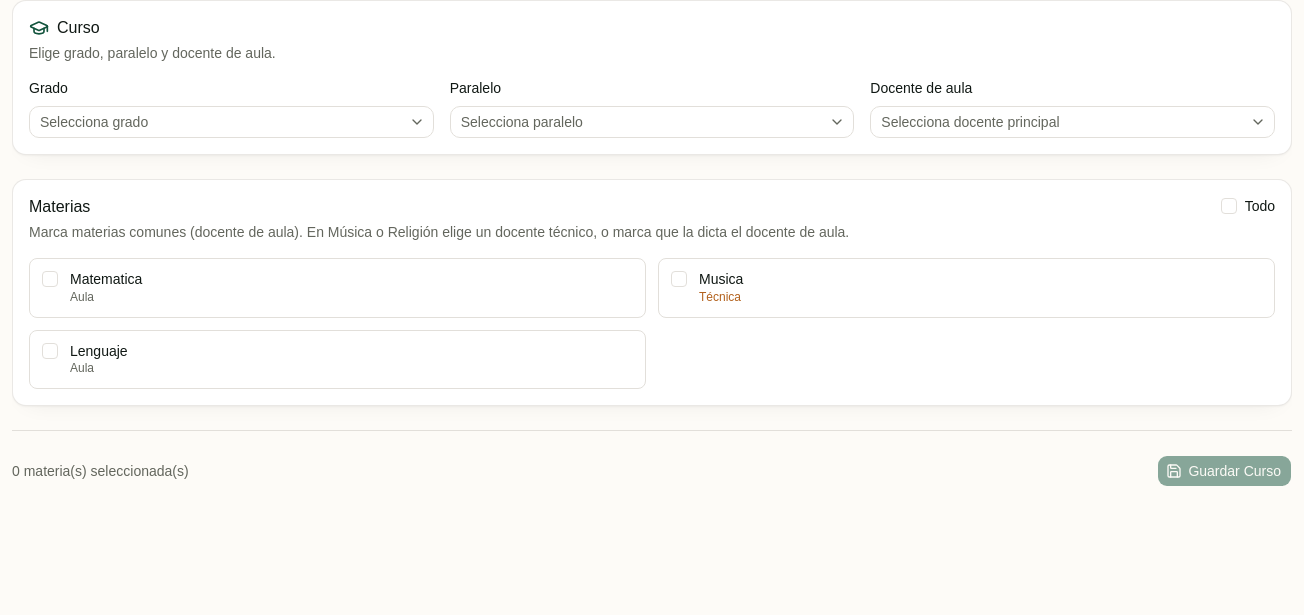
Test: AssignCourseSubjectsForm, seleccionar todas las materias › al volver a pulsarlo con todas marcadas, las desmarca
Click the checkbox named "seleccionar todas las materias": (1229, 206) [1221,198,1237,214]
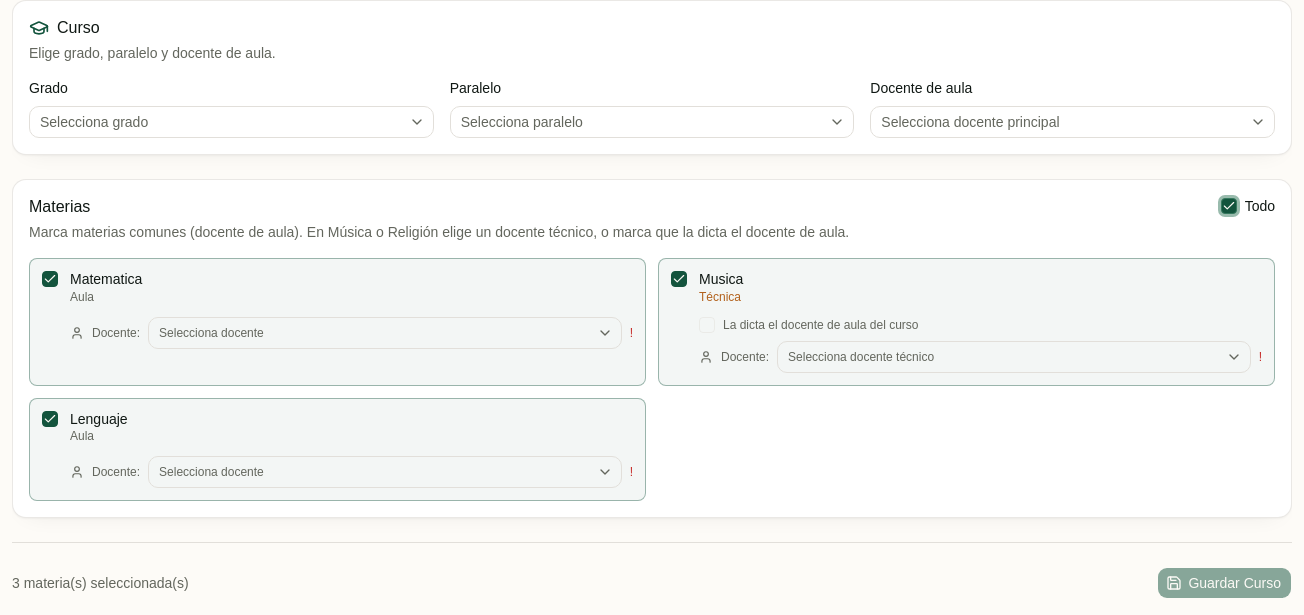
Click the checkbox named "seleccionar todas las materias": (1229, 206) [1221,198,1237,214]
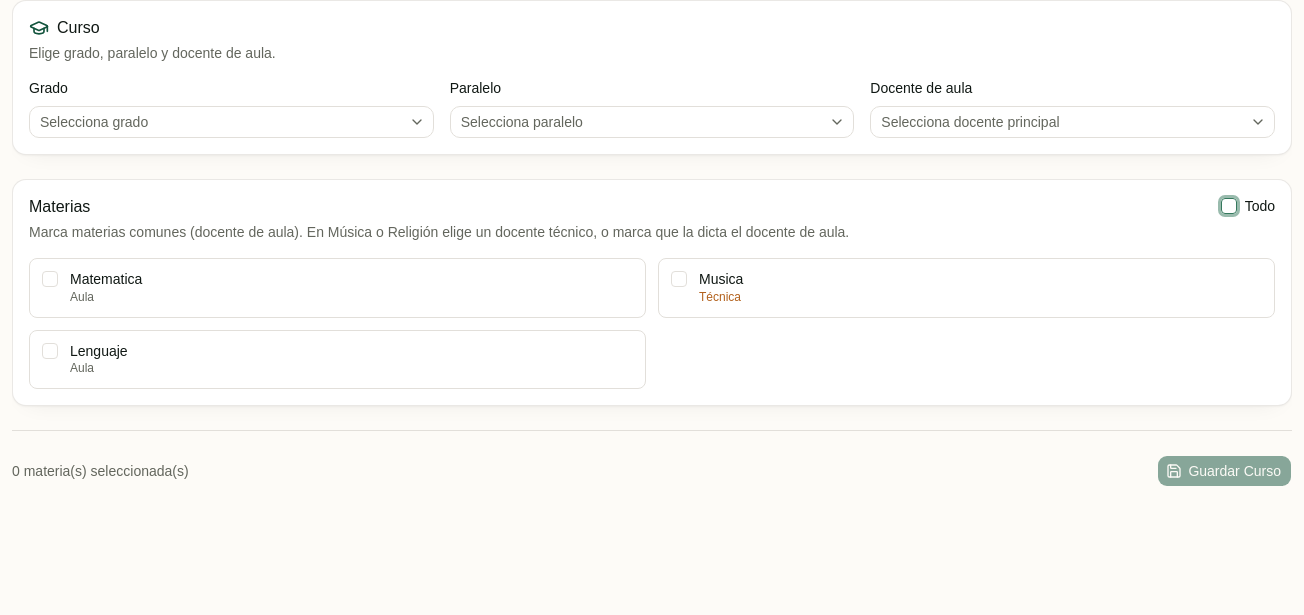
Now the text "0 materia(s) seleccionada(s)" is shown, box [12,461,189,481]
